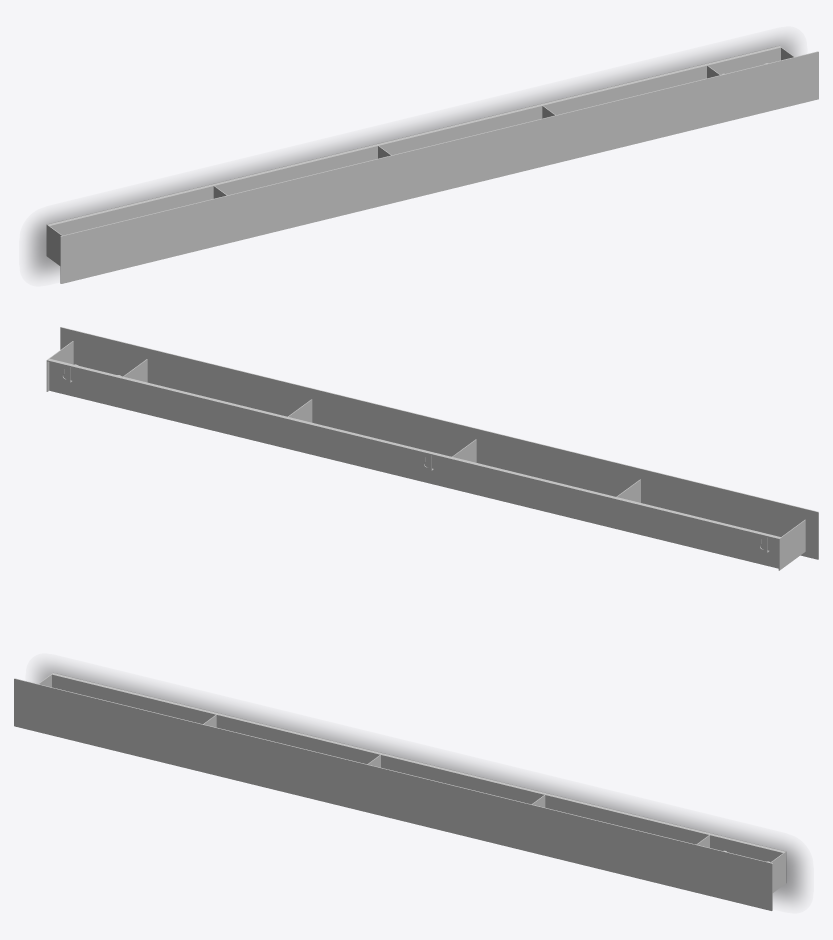
File: skyline-patron.7debffca82.ar.glb
3 renders of one model, top to bottom at view 1: azimuth 30°, elevation 25°; view 2: azimuth 150°, elevation 25°; view 3: azimuth 330°, elevation 25°, orthographic.
Visible parts, largest first — view 1: NAUO1, object 2; view 2: NAUO1; view 3: NAUO1, object 2.
Part boxes in pixels (left/top/right/bottom): NAUO1: left=46, top=45, right=818, bottom=283; object 2: left=29, top=38, right=797, bottom=274; NAUO1: left=46, top=327, right=818, bottom=570; NAUO1: left=14, top=672, right=786, bottom=910; object 2: left=35, top=665, right=803, bottom=901.
Size of the model in its own units: 1.58 by 0.17 by 0.092.
Materials: 2 (1 with a texture image).
